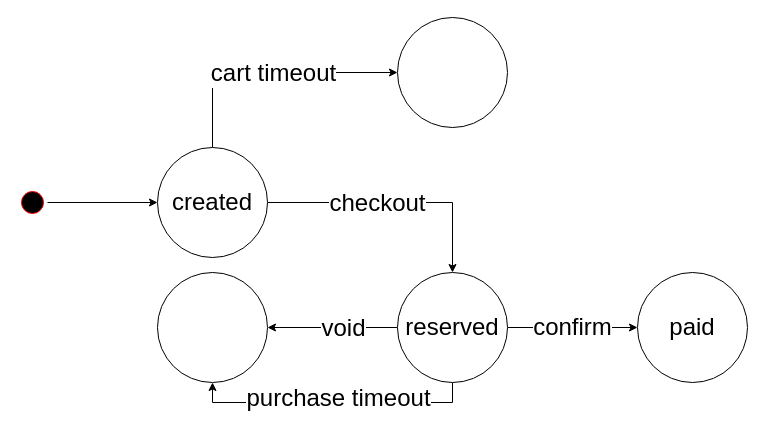
This 765x430 diagram has some shape labels left out. The box of each missing label's shape, as (x1, y1, x2, y2) in pixels:
expired: (396, 16, 508, 128)
voided: (156, 272, 268, 382)
